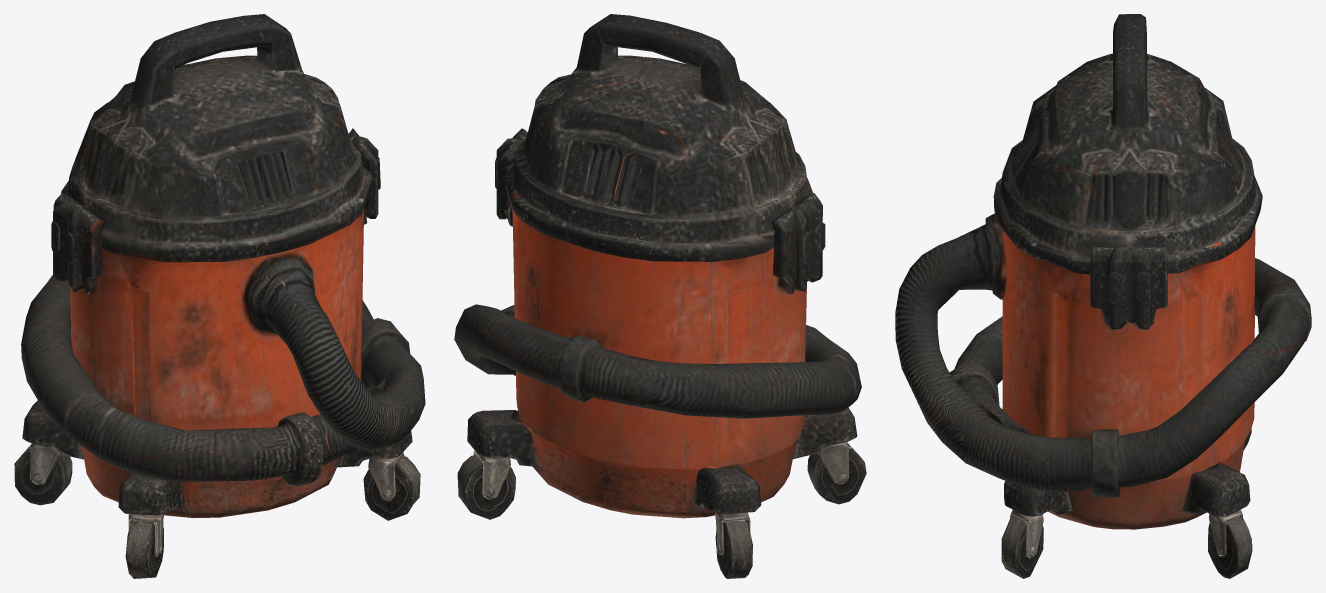
The model's file is p7-wet-dry-vac-t25.glb.
The picture shows the model from 3 angles, left to right: view 1: azimuth 30°, elevation 25°; view 2: azimuth 150°, elevation 25°; view 3: azimuth 270°, elevation 25°; orthographic projection.
Parts seen in each view (by area): view 1: p7-wet-dry-vac-t25; view 2: p7-wet-dry-vac-t25; view 3: p7-wet-dry-vac-t25.
Part boxes in pixels (box(x1,y1,x2,y2)): p7-wet-dry-vac-t25: box(14, 14, 425, 578); p7-wet-dry-vac-t25: box(454, 14, 866, 578); p7-wet-dry-vac-t25: box(895, 14, 1311, 578).
Bounding box in the file's own units: 0.5 × 0.65 × 0.509.
1 material, 1 textured.
